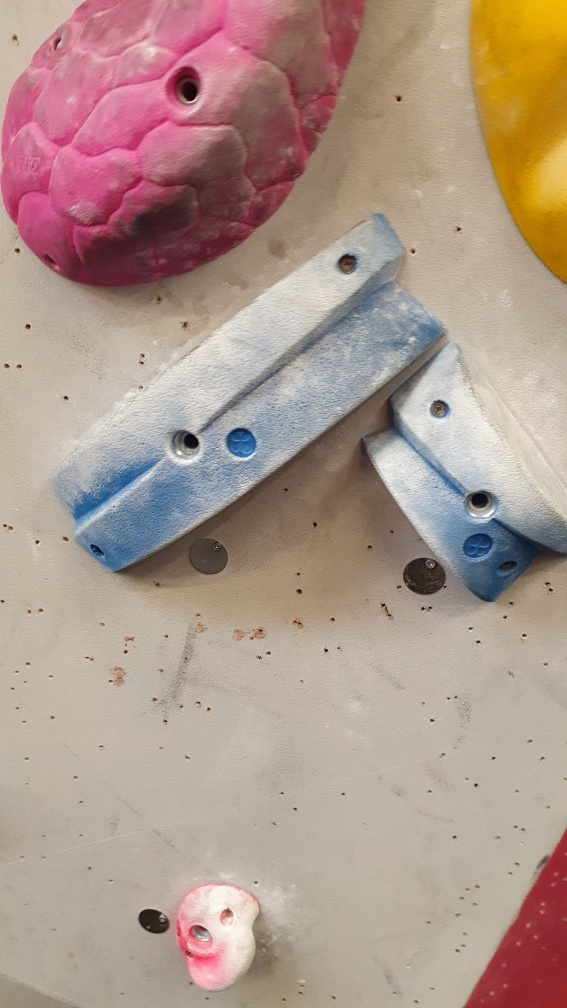Hand Start: (399, 552, 451, 597), (186, 536, 233, 577), (137, 903, 175, 933)
Pinch: (51, 211, 452, 577), (361, 347, 567, 609)
